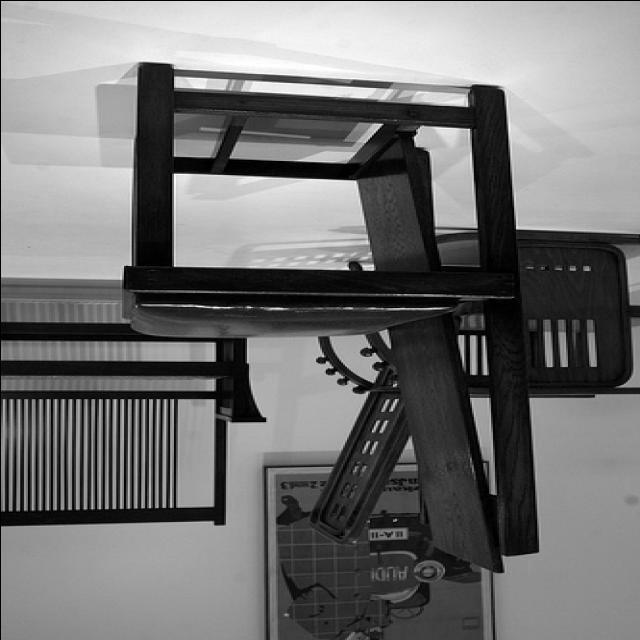chair: (126, 61, 538, 572)
